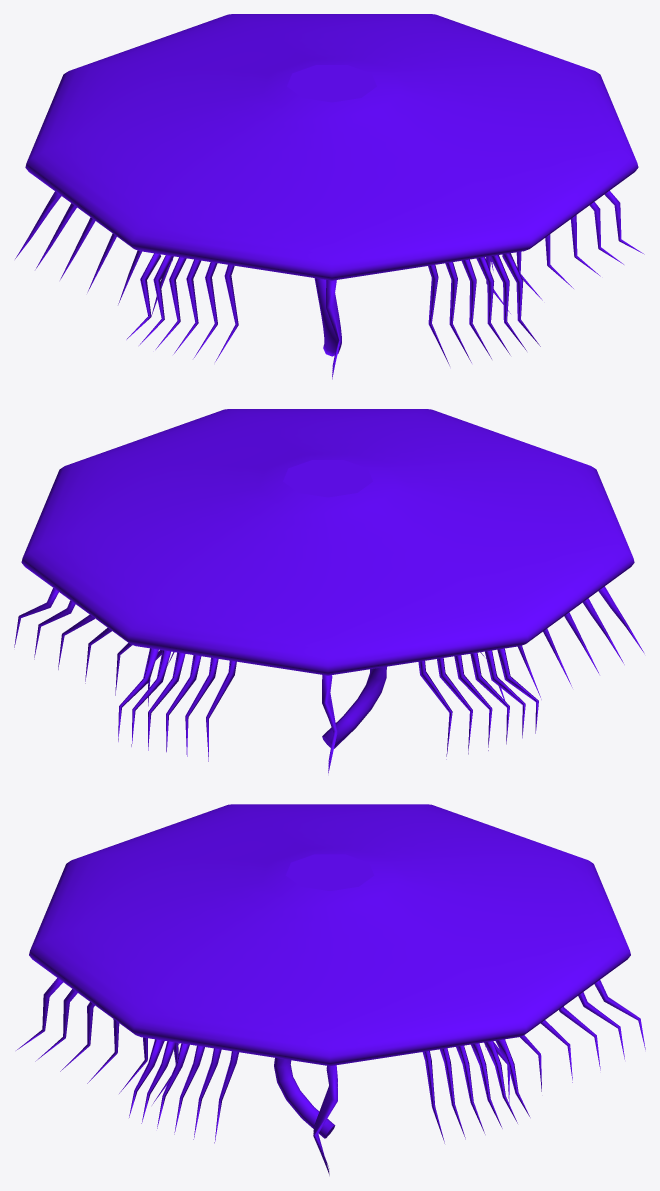
The model's file is mushroom2.fbx.
3 views of the same model, one above another, from view 1: azimuth 30°, elevation 25°; view 2: azimuth 150°, elevation 25°; view 3: azimuth 270°, elevation 25° (orthographic).
Parts seen in each view (by area): view 1: Plane.001; view 2: Plane.001; view 3: Plane.001.
Part boxes in pixels (bbox=[...]): Plane.001: bbox=[15, 14, 644, 379]; Plane.001: bbox=[14, 409, 644, 773]; Plane.001: bbox=[16, 804, 645, 1175].
Bounding box in the file's own units: 738 × 339 × 727.
